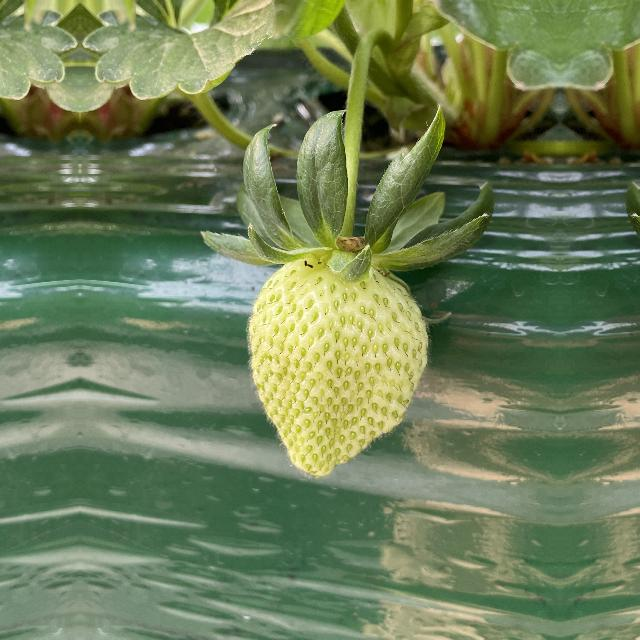Health_25: (242, 248, 438, 482)
